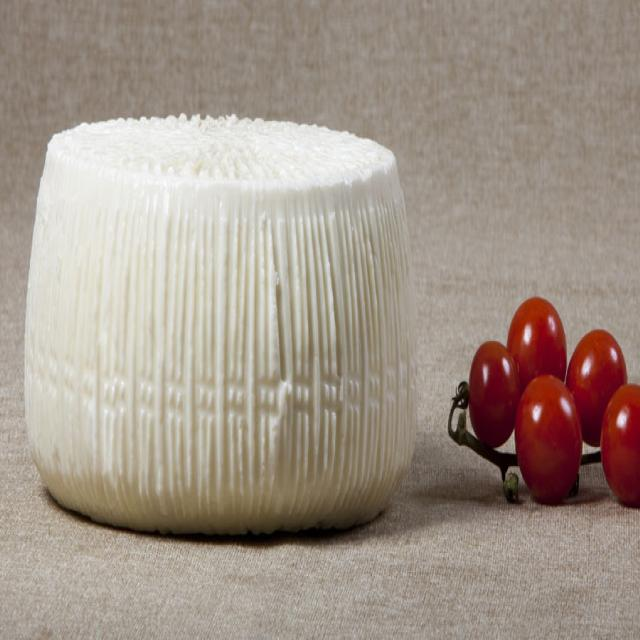Cheese: (25, 121, 419, 527)
